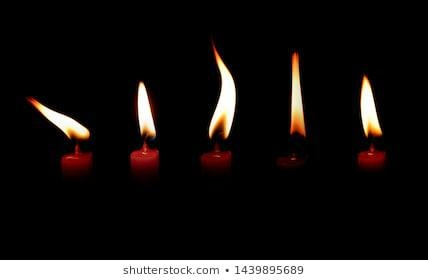fire: (27, 96, 89, 145), (207, 44, 237, 143), (357, 72, 383, 138), (287, 50, 305, 136), (133, 80, 155, 142)
